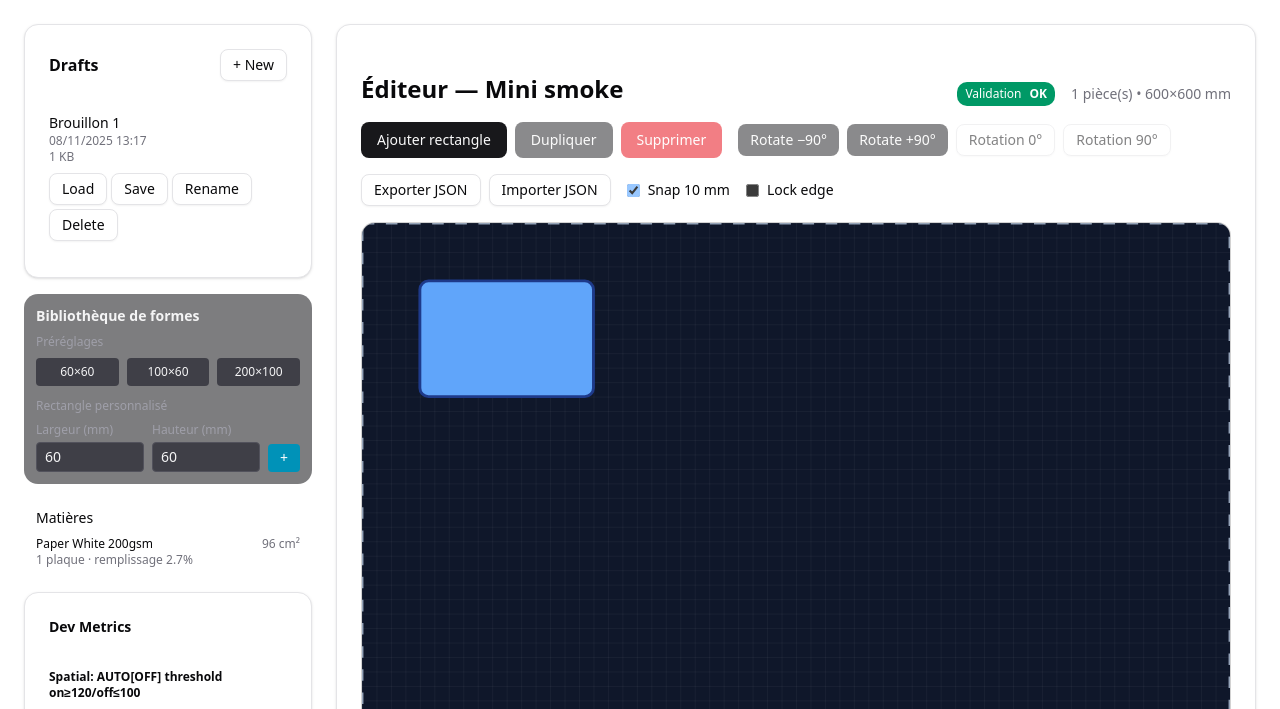
Test: Draft Management › Rename Draft › rename button updates draft name
Click the button with aria-label "rename-draft-": {"x": 212, "y": 189} [172, 173, 252, 205]
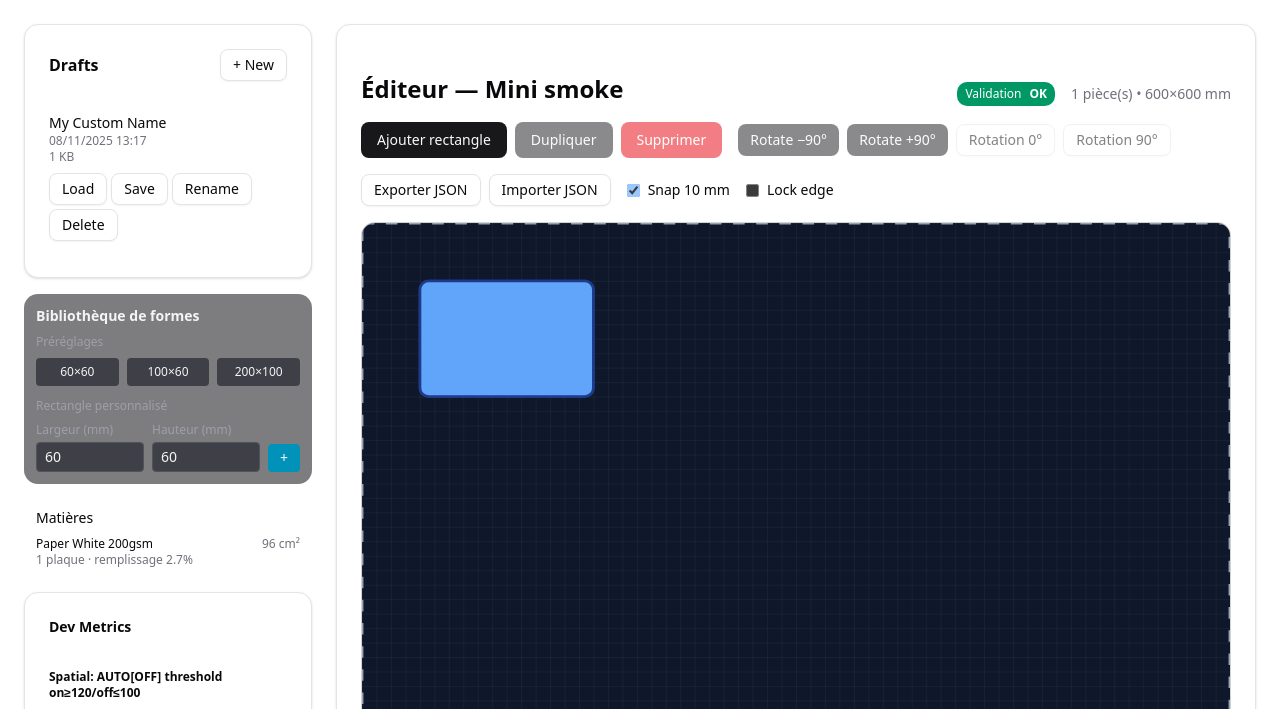
Now the text "My Custom Name" is shown, box [49, 113, 166, 132]
